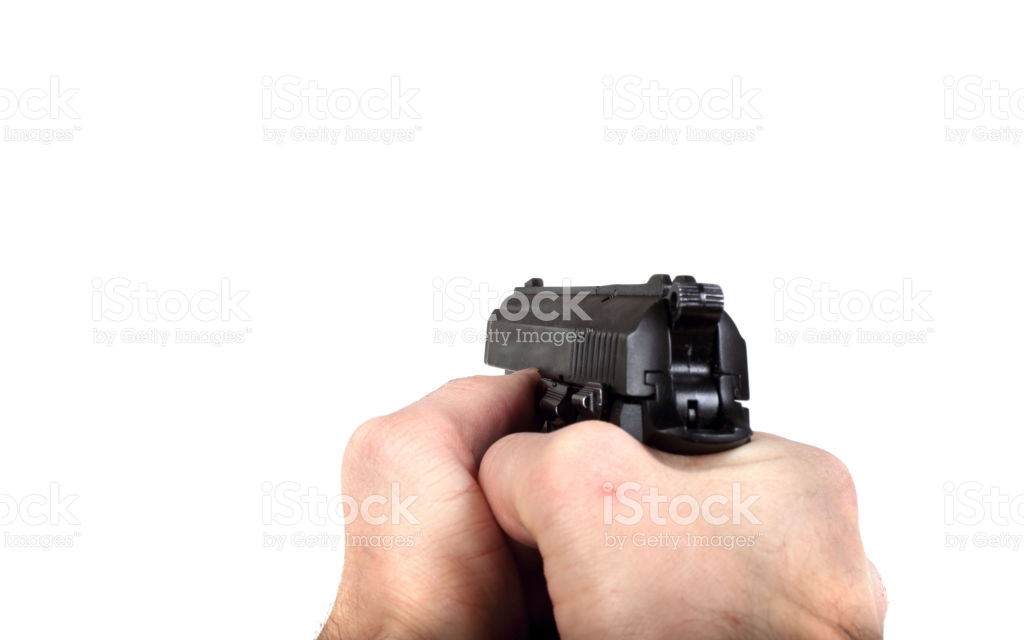pistol: (212, 225, 915, 640)
